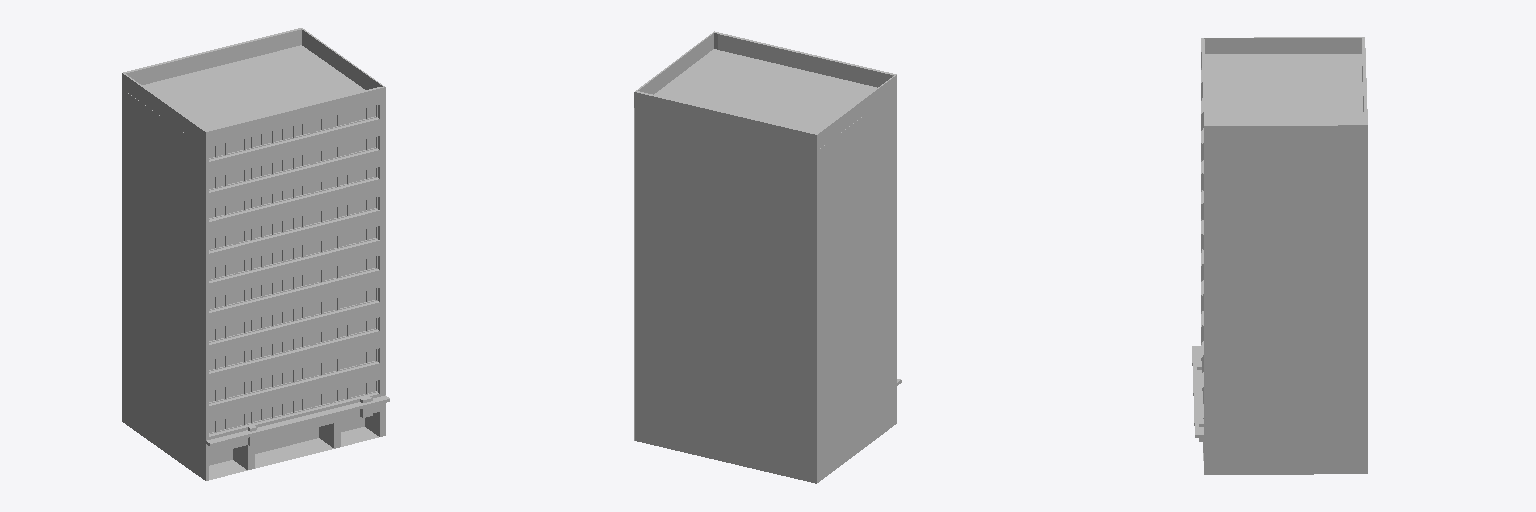
Rendered from otherbuilding.obj.
3 renders of one model, left to right at view 1: azimuth 30°, elevation 25°; view 2: azimuth 150°, elevation 25°; view 3: azimuth 270°, elevation 25°, orthographic.
Visible parts, largest first — view 1: MINISTRY_OF_FINANCE.001; view 2: MINISTRY_OF_FINANCE.001; view 3: MINISTRY_OF_FINANCE.001.
Part boxes in pixels (left/top/right/bottom): MINISTRY_OF_FINANCE.001: left=122, top=28, right=389, bottom=480; MINISTRY_OF_FINANCE.001: left=634, top=31, right=901, bottom=483; MINISTRY_OF_FINANCE.001: left=1192, top=37, right=1367, bottom=474.
Size of the model in its own units: 10.88 by 19.76 by 9.04.